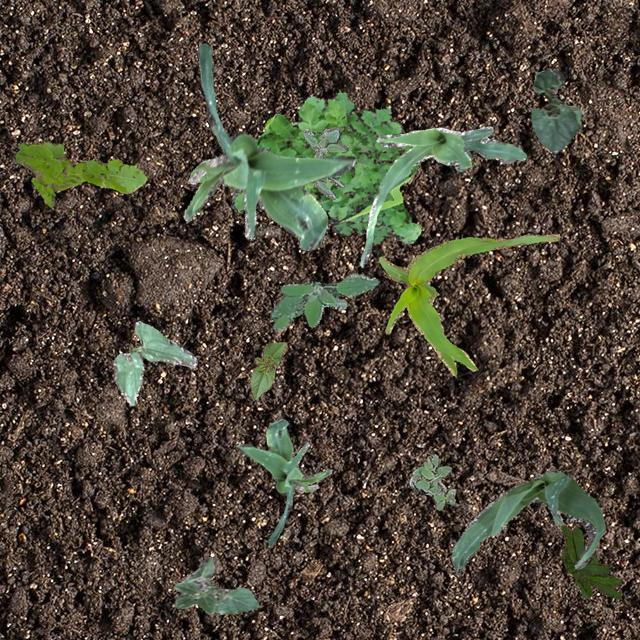crop: (182, 42, 356, 250), (378, 233, 558, 374), (360, 126, 526, 266), (450, 468, 604, 572), (236, 416, 330, 544), (112, 320, 196, 404), (174, 556, 258, 614), (530, 68, 580, 152), (249, 341, 285, 398)
weed: (198, 90, 420, 242), (14, 140, 146, 206), (270, 272, 378, 332), (560, 524, 620, 598), (331, 180, 392, 242), (302, 125, 348, 198), (408, 452, 454, 510)
